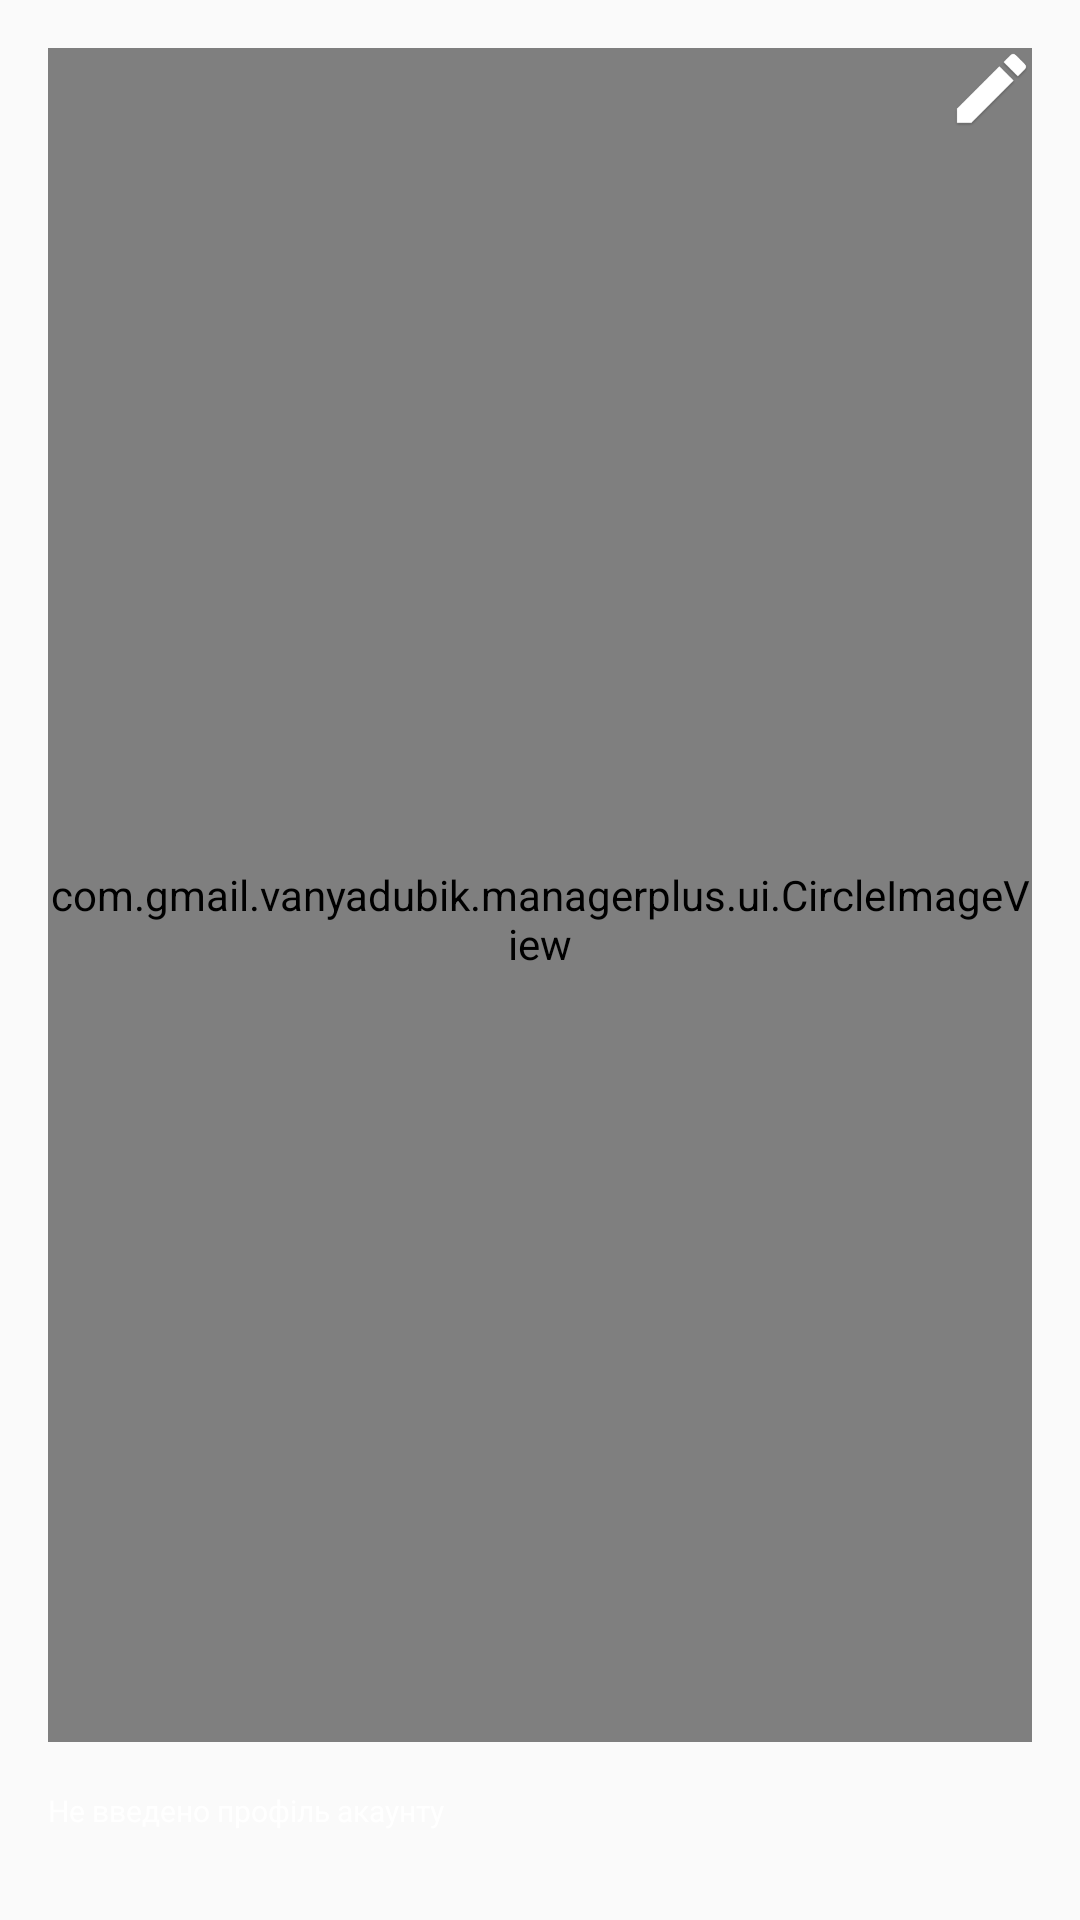

Icons on this 1080 × 1920 Android screen, each with the point to tap as (x=x, y=y):
edit: (x=991, y=88)
